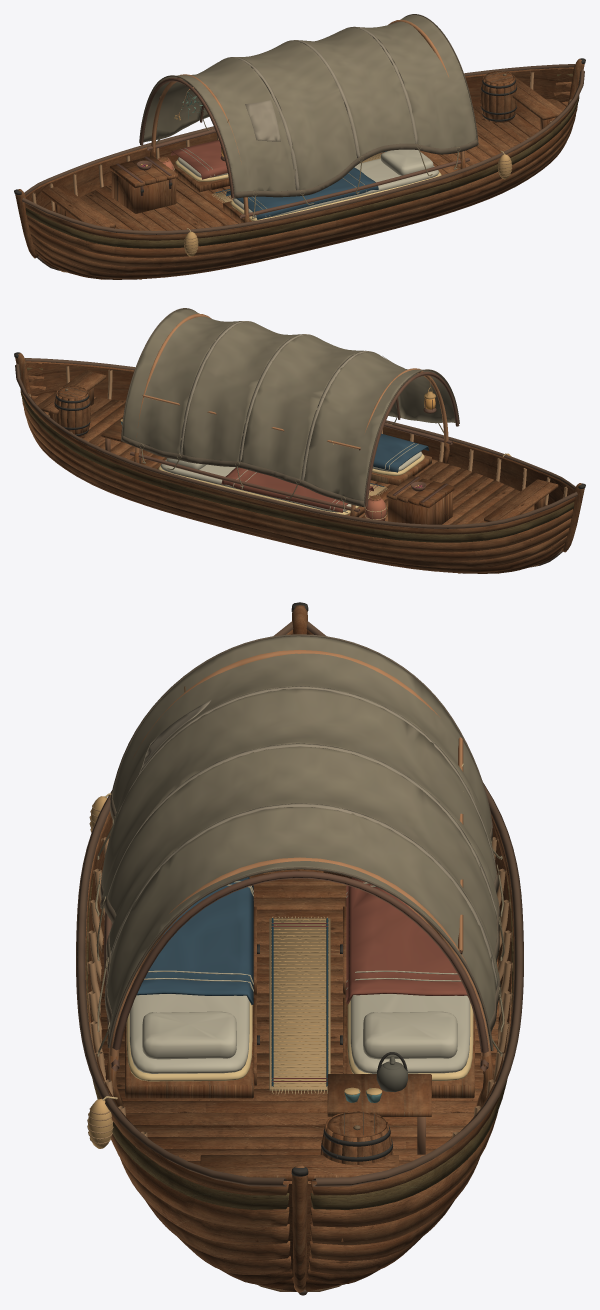
Rendered from hull.glb.
The picture shows the model from 3 angles, top to bottom: view 1: azimuth 30°, elevation 25°; view 2: azimuth 150°, elevation 25°; view 3: azimuth 270°, elevation 25°; orthographic projection. The views are drawn at different scales.
Parts seen in each view (by area): view 1: hull; view 2: hull; view 3: hull.
Boxes of the visible parts, x1,y1,x2,y2 form: hull: (14,14,585,279); hull: (14,308,585,573); hull: (76,602,523,1295).
Size of the model in its own units: 5.89 by 1.76 by 2.
Materials: 4 (1 with a texture image).
